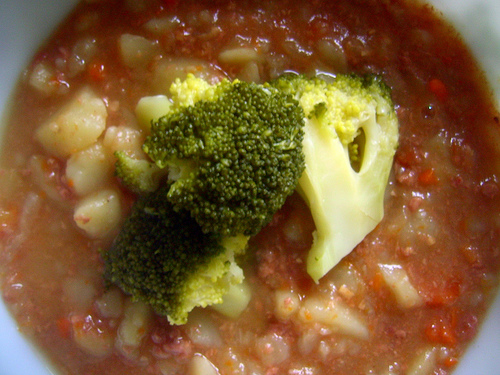broccoli: (169, 75, 399, 281), (107, 73, 310, 247), (100, 198, 250, 325)
